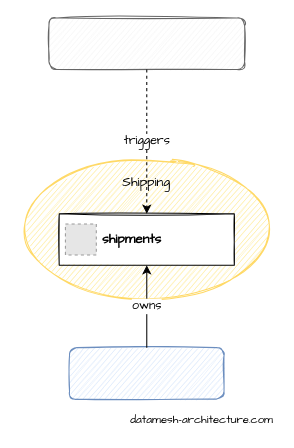
Some shapes in this 294 by 448 pixel diagram are drawn without their labels. Grey dashed boxes stand in for pictures. The shapes that lost their labels are listed below. From the top down, each one's centre as x and y in pixels, then its label:
At point 146,43: "Order Management System".
At point 146,373: "Shipping team owner".
